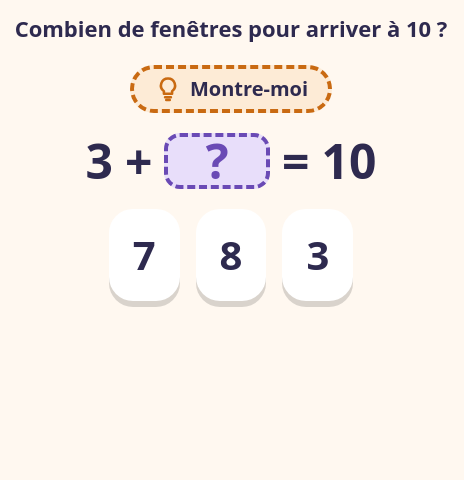
Test: aides dans les jeux › maison du 10 : maison cachée, puis montrée sur demande
The image size is (464, 480).
Click the button "Montre-moi" at (231, 89), box [130, 65, 332, 113]
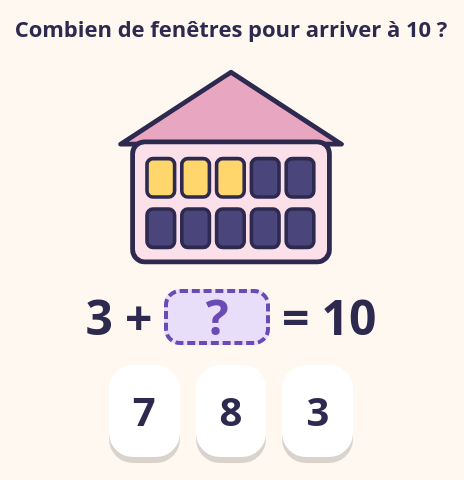
Expected: the picture named "fenêtres allumées" is shown, [111, 65, 351, 269]
